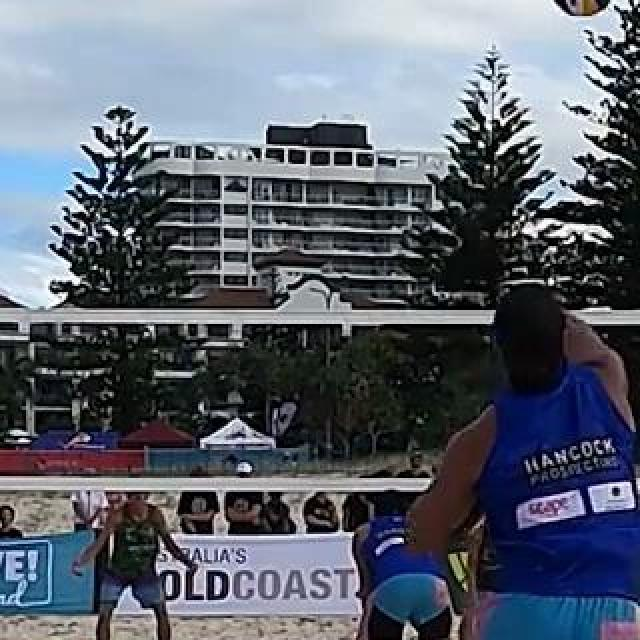volleyball: (555, 2, 611, 18)
